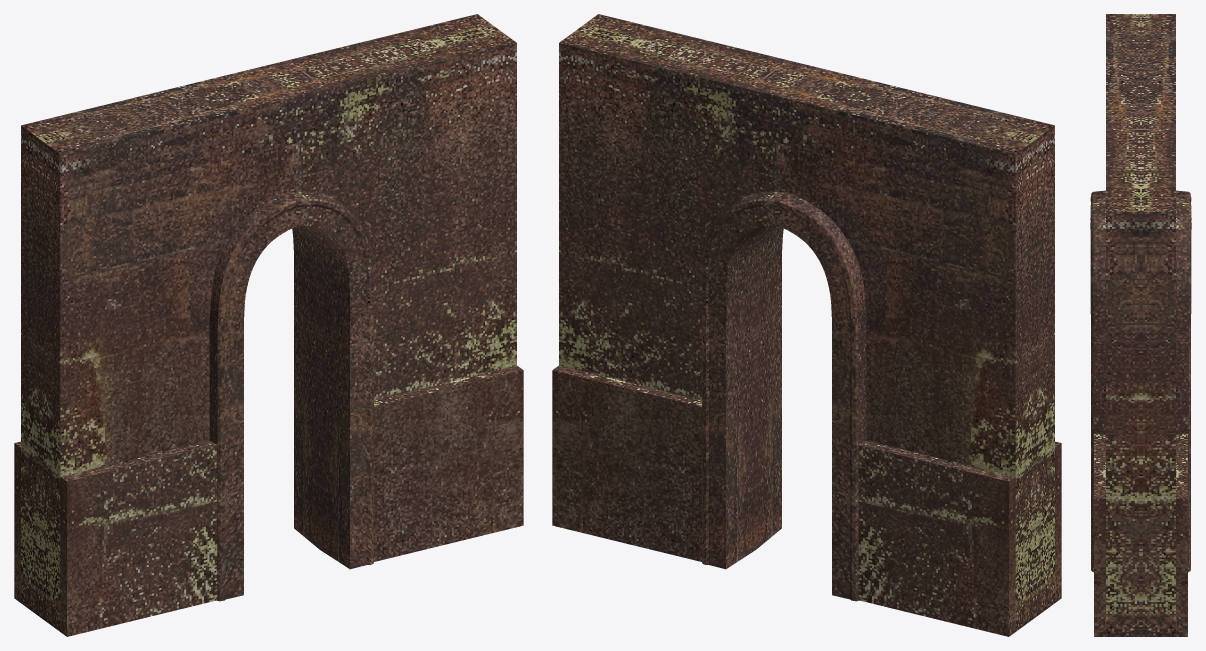
File: Ruims1.fbx
3 renders of one model, left to right at view 1: azimuth 30°, elevation 25°; view 2: azimuth 150°, elevation 25°; view 3: azimuth 270°, elevation 25°, orthographic. The views are drawn at different scales.
Parts seen in each view (by area): view 1: Plane.101; view 2: Plane.101; view 3: Plane.101.
Boxes of the visible parts, x1=… form: Plane.101: x1=14, y1=14, x2=523, y2=636; Plane.101: x1=552, y1=14, x2=1061, y2=636; Plane.101: x1=1090, y1=14, x2=1191, y2=636.
Bounding box in the file's own units: 400 × 401 × 86.28.
